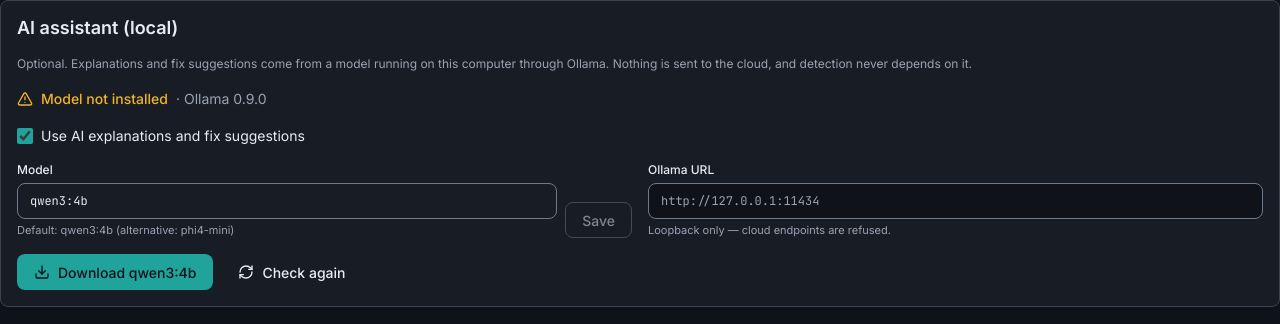
it: AiSettings › downloads a missing model and polls progress until ready
This screenshot has width=1280, height=324.
Later steps or results of the test are not shown.
Step 1. Click the button "Download qwen3:4b" → (115, 272), box [17, 254, 213, 290]
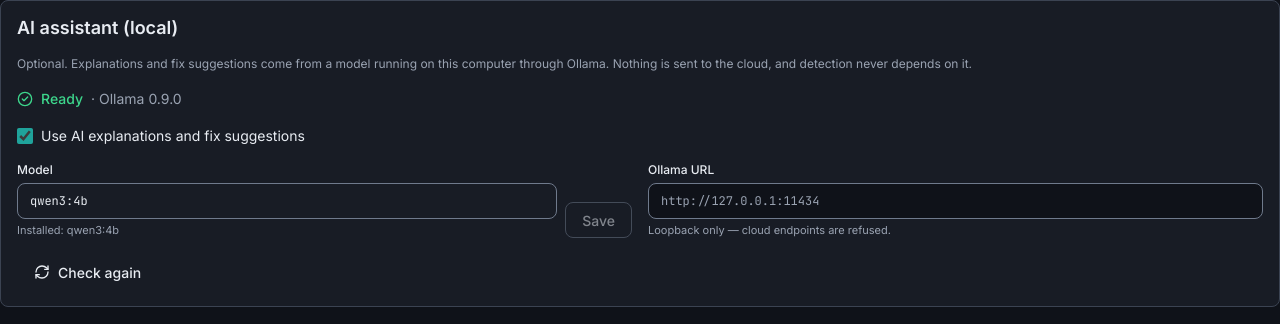
Check: the text "Ready" is shown, box [41, 90, 83, 107]
